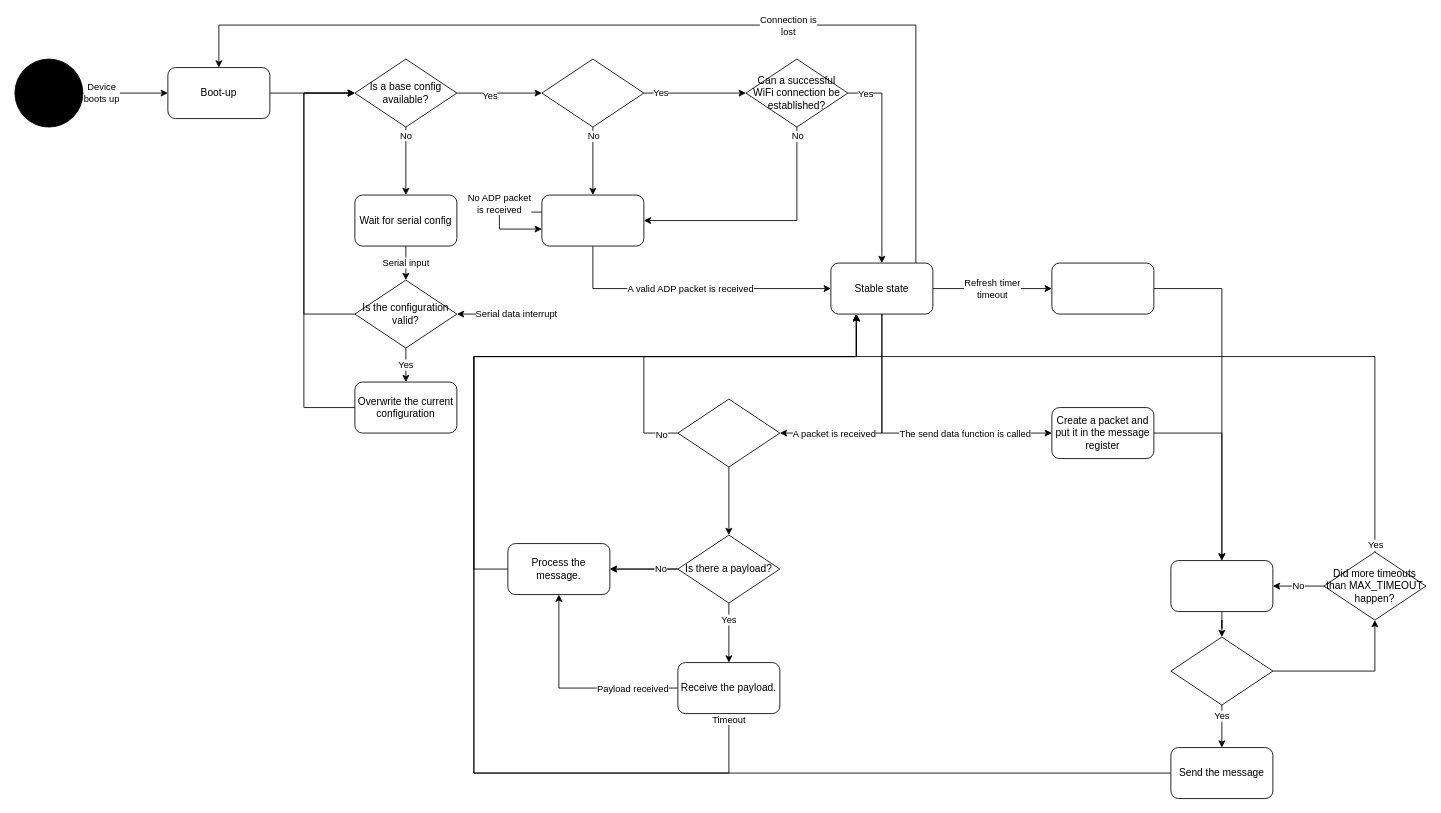
Some shapes in this 1441 by 813 pixel diagram are drawn without their labels. The box of each missing label's shape, as (x1, y1, x2, y2) in pixels:
Is it a valid packet header?: (677, 398, 780, 467)
Is there a WiFi config availabe?: (541, 58, 644, 127)
Put a CHECK packet in the message register: (1051, 262, 1154, 314)
Send a CHECK packet & wait for a response.: (541, 194, 644, 246)
Wait for rand(t) seconds.: (1170, 560, 1273, 612)
Was the radio channel empty?: (1170, 636, 1273, 705)
